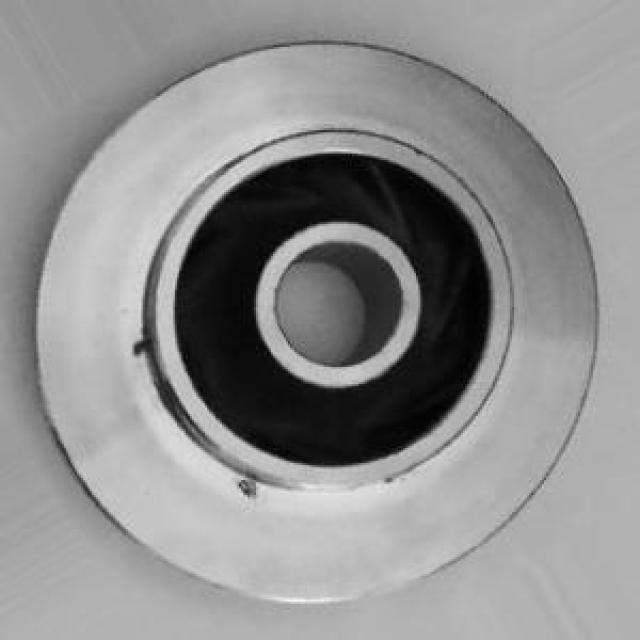Defect: (128, 335, 154, 359)
